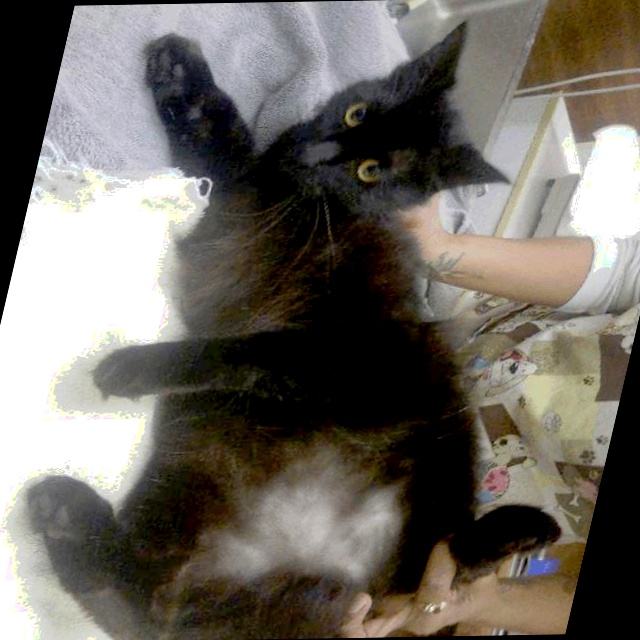hairloss: (211, 483, 403, 583)
